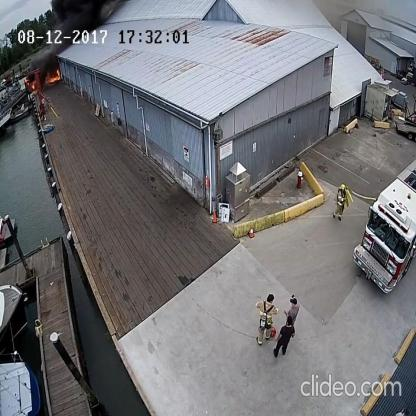fire: (43, 64, 62, 87), (23, 75, 37, 93)
